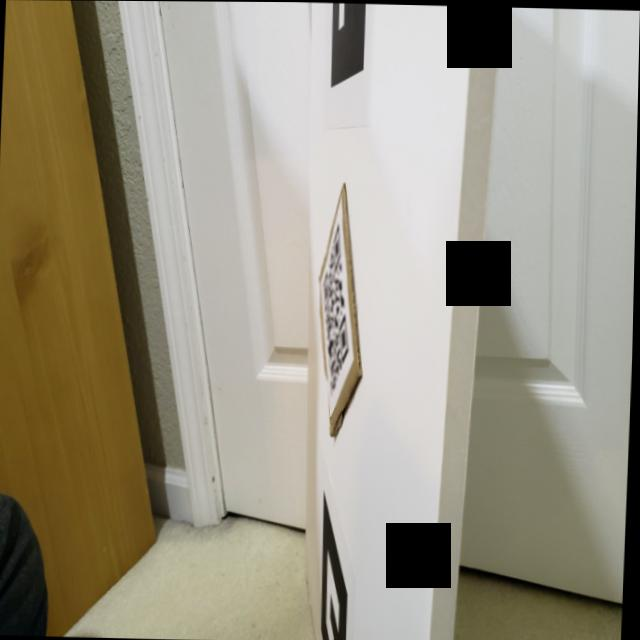QR_CODE: (311, 213, 362, 407)
